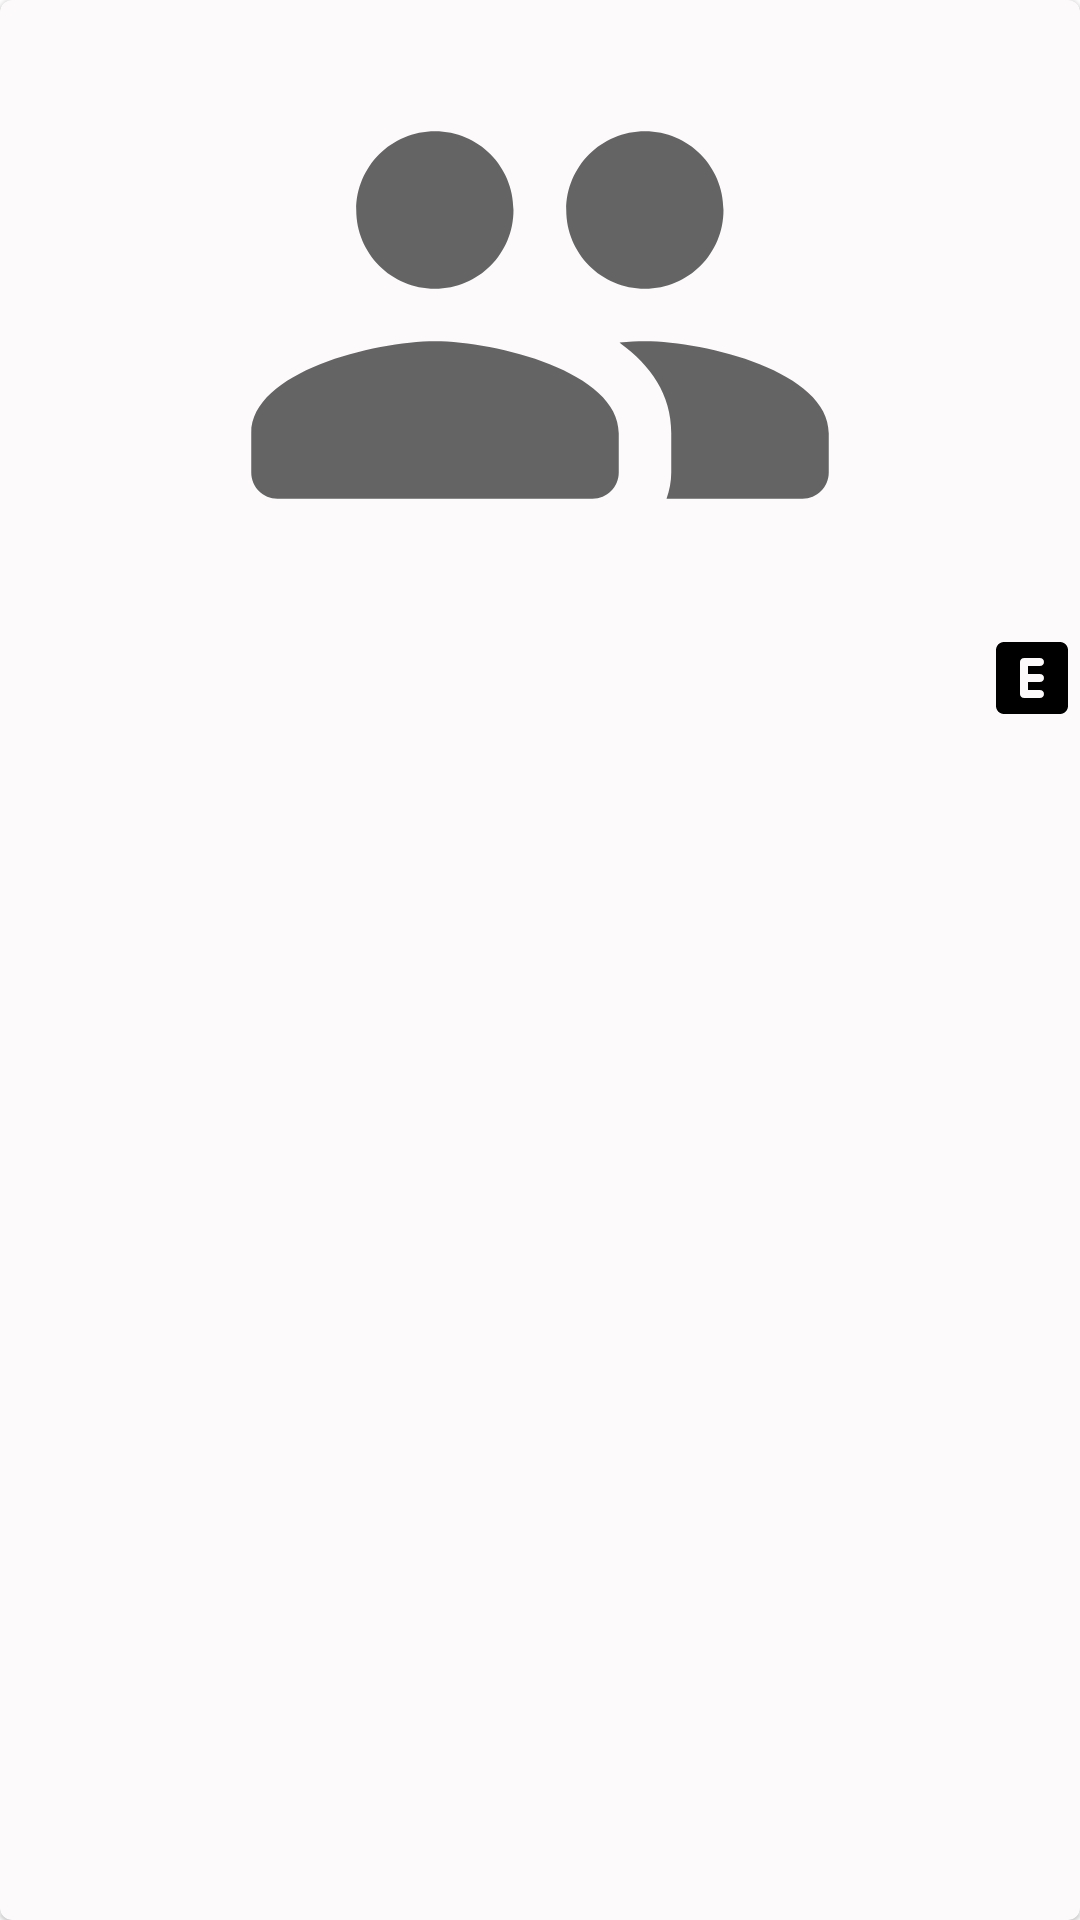

Point at icon controls on the screen. Image size 1080px×1920px, points as [x,y].
Explicit Content: [1032,678]
